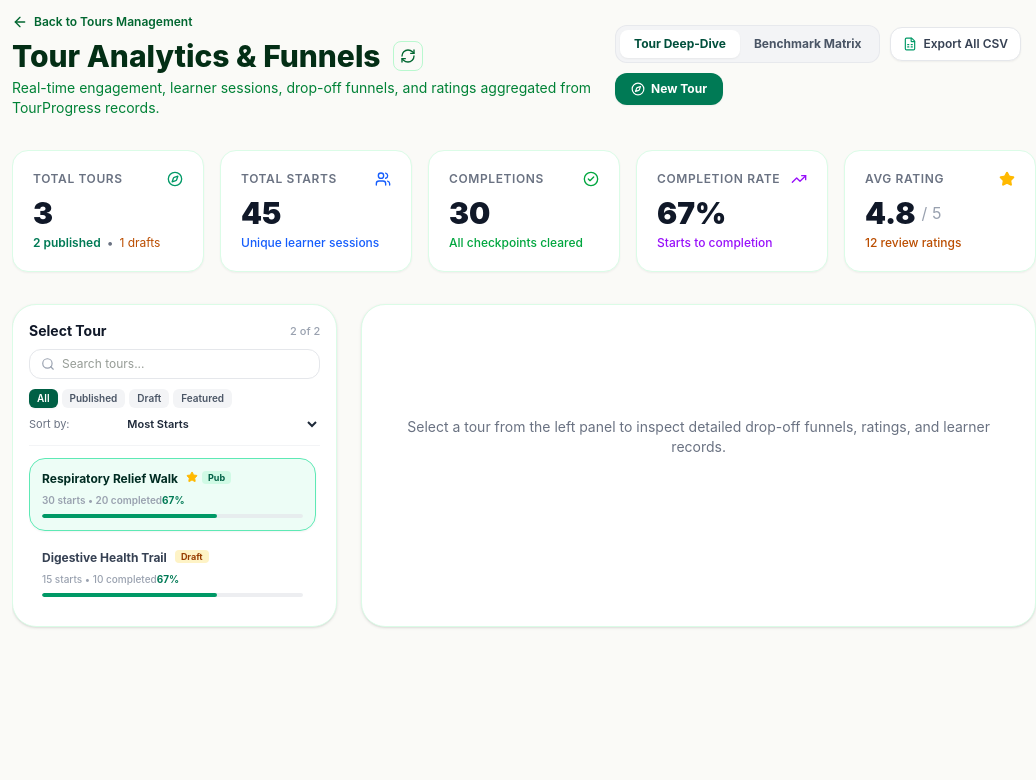
Test: AdminTourAnalyticsPage - Enhanced Functionality › allows toggling between Single Tour Deep-Dive and Benchmark Matrix view
Expected: the heading "Tour Analytics & Funnels" is shown, [12, 38, 381, 74]
Click the button "Benchmark Matrix" at (808, 44), box [740, 30, 876, 58]
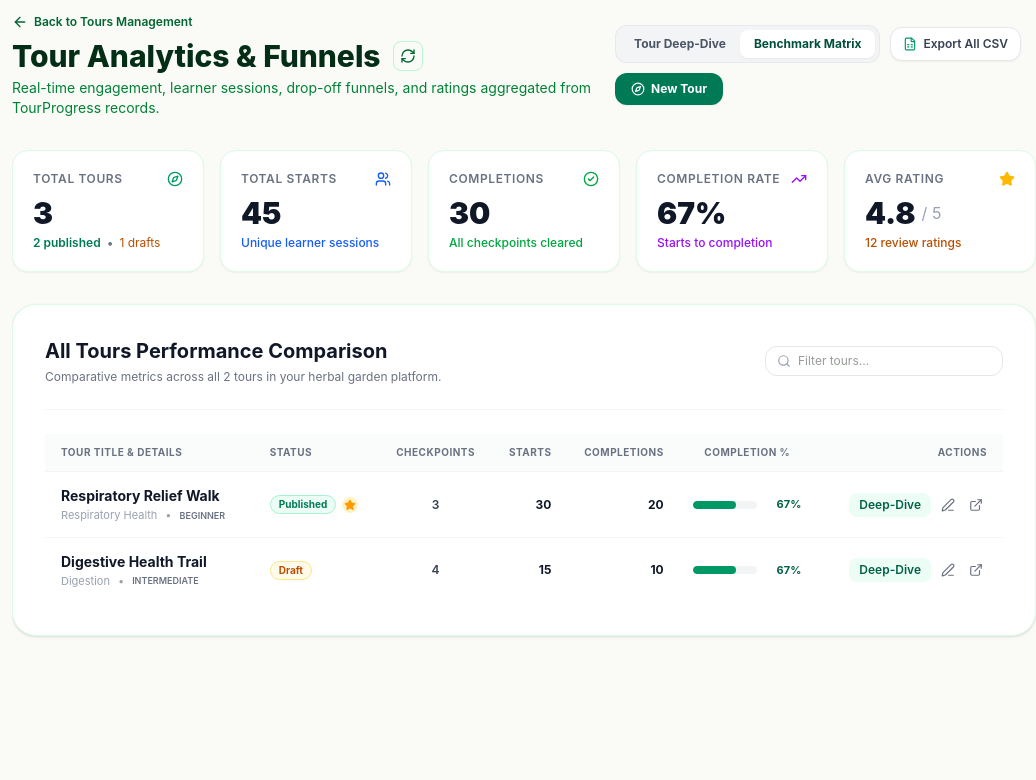
Expected: the text "Digestive Health Trail" is shown, [61, 553, 207, 570]
Result: the heading "All Tours Performance Comparison" is shown at [45, 337, 442, 365]
